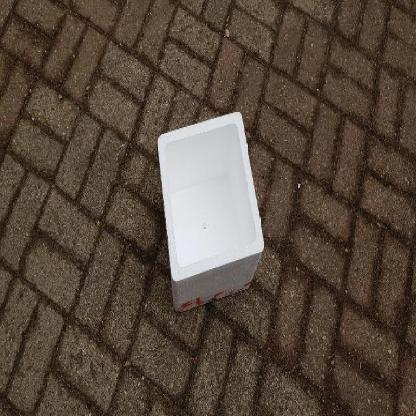Glass Cup: (158, 110, 264, 311), (158, 112, 264, 311)
